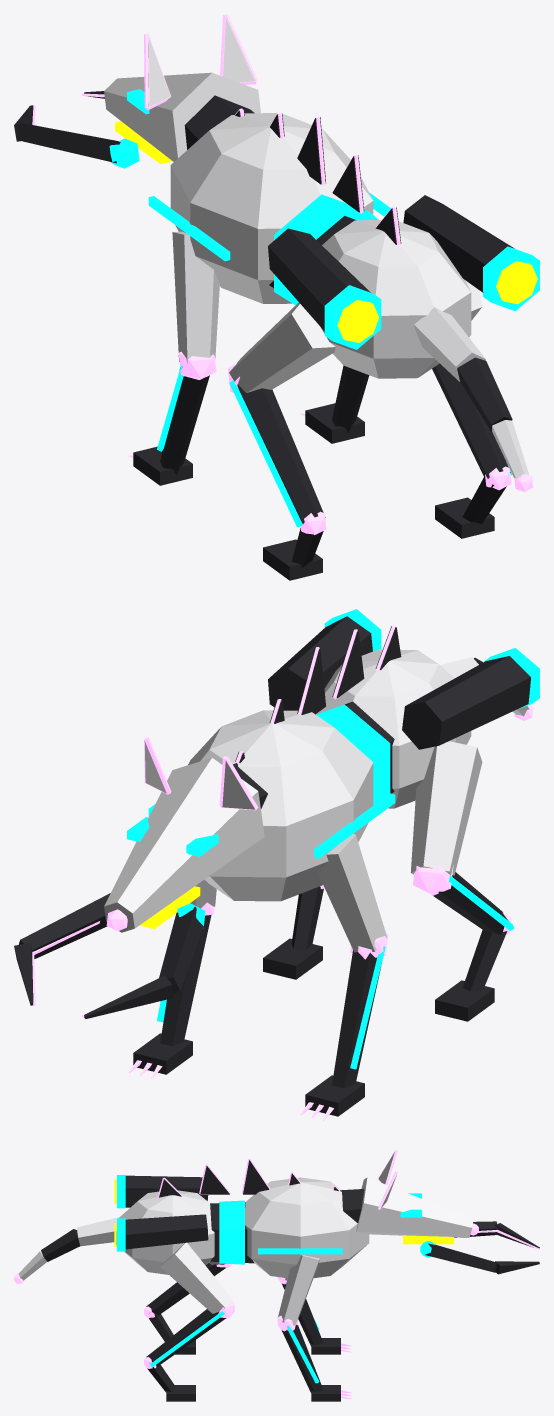
The model's file is Chromejaw.fbx.
3 views of the same model, one above another, from view 1: azimuth 30°, elevation 25°; view 2: azimuth 150°, elevation 25°; view 3: azimuth 270°, elevation 25° (orthographic). The views are drawn at different scales.
Parts seen in each view (by area): view 1: Jaw_Chest, Jaw_Hips, Jaw_Head, Jaw_BackR_Thigh, Jaw_BoosterR, Jaw_FrontR_Upper, Jaw_BoosterL, Jaw_BackR_Shin, Jaw_BackL_Shin, Jaw_Tail0, Jaw_FrontR_Lower, Jaw_WaistGlow (+24 smaller); view 2: Jaw_Chest, Jaw_Head, Jaw_Hips, Jaw_BoosterR, Jaw_BackR_Thigh, Jaw_FrontR_Upper, Jaw_BoosterL, Jaw_FrontR_Lower, Jaw_WaistGlow, Jaw_BladeL_A, Jaw_FrontL_Lower, Jaw_BladeR_A (+19 smaller); view 3: Jaw_Chest, Jaw_Head, Jaw_Hips, Jaw_BoosterL, Jaw_BackL_Thigh, Jaw_WaistGlow, Jaw_FrontL_Upper, Jaw_BoosterR, Jaw_BackL_Shin, Jaw_Tail0, Jaw_BladeL_A, Jaw_FrontL_Lower (+18 smaller).
Boxes of the visible parts, box(x1,y1,x2,y2) form: Jaw_Chest: box(170, 113, 373, 303); Jaw_Hips: box(320, 220, 471, 378); Jaw_Head: box(104, 72, 260, 161); Jaw_BackR_Thigh: box(229, 302, 335, 392); Jaw_BoosterR: box(268, 228, 370, 330); Jaw_FrontR_Upper: box(172, 231, 219, 363); Jaw_BoosterL: box(403, 195, 514, 292); Jaw_BackR_Shin: box(237, 384, 325, 523); Jaw_BackL_Shin: box(432, 363, 510, 478); Jaw_Tail0: box(414, 307, 485, 381); Jaw_FrontR_Lower: box(160, 367, 209, 474); Jaw_WaistGlow: box(274, 194, 378, 305); Jaw_Chest: box(188, 710, 373, 901); Jaw_Head: box(104, 758, 264, 932); Jaw_Hips: box(315, 649, 471, 808); Jaw_BoosterR: box(402, 656, 530, 749); Jaw_BackR_Thigh: box(410, 741, 482, 875); Jaw_FrontR_Upper: box(318, 833, 387, 952); Jaw_BoosterL: box(268, 616, 372, 710); Jaw_FrontR_Lower: box(332, 950, 381, 1088); Jaw_WaistGlow: box(316, 704, 390, 805); Jaw_BladeL_A: box(18, 893, 110, 958); Jaw_FrontL_Lower: box(160, 915, 211, 1046); Jaw_BladeR_A: box(159, 906, 204, 993); Jaw_Chest: box(245, 1177, 369, 1278); Jaw_Head: box(356, 1177, 473, 1237); Jaw_Hips: box(116, 1190, 214, 1274); Jaw_BoosterL: box(125, 1214, 208, 1249); Jaw_BackL_Thigh: box(160, 1242, 232, 1313); Jaw_WaistGlow: box(219, 1200, 244, 1264); Jaw_FrontL_Upper: box(278, 1255, 319, 1325); Jaw_BoosterR: box(125, 1175, 208, 1207); Jaw_BackL_Shin: box(146, 1309, 226, 1367); Jaw_Tail0: box(76, 1217, 118, 1246); Jaw_BladeL_A: box(425, 1243, 497, 1272); Jaw_FrontL_Lower: box(281, 1324, 322, 1392).
Bounding box in the file's own units: 0.338 × 0.5563 × 1.23.
